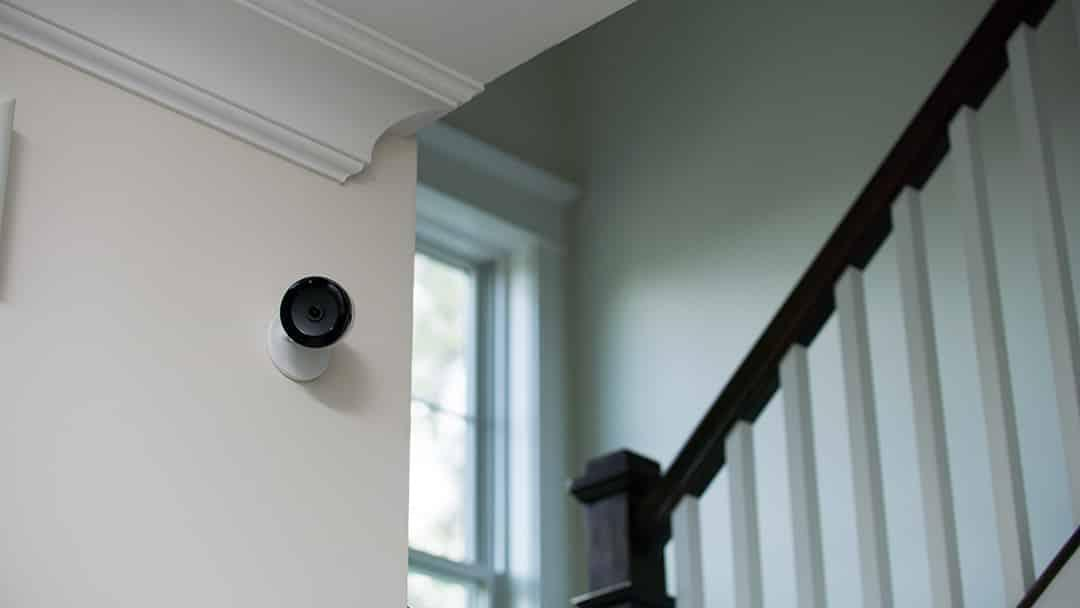CCTV: (267, 275, 352, 381)
